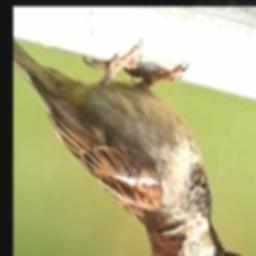Sparrow: (13, 38, 245, 256)
